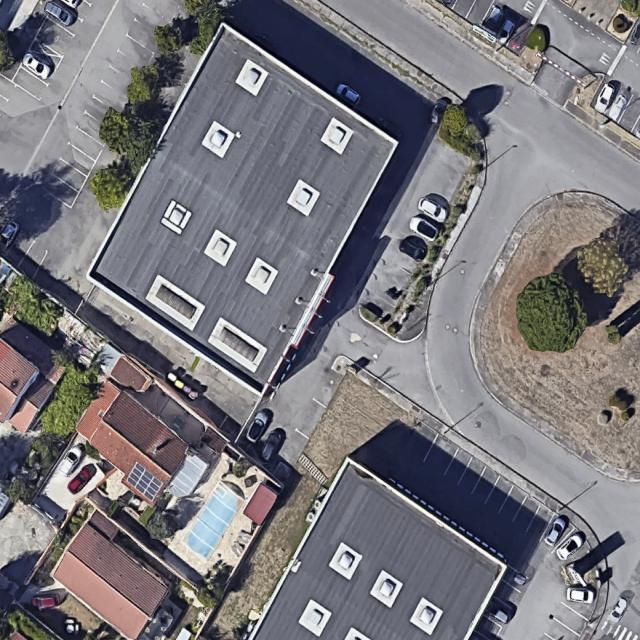immeuble: (76, 21, 413, 396), (244, 456, 516, 640)
maison: (62, 380, 196, 506), (46, 516, 178, 640), (0, 317, 72, 437)
